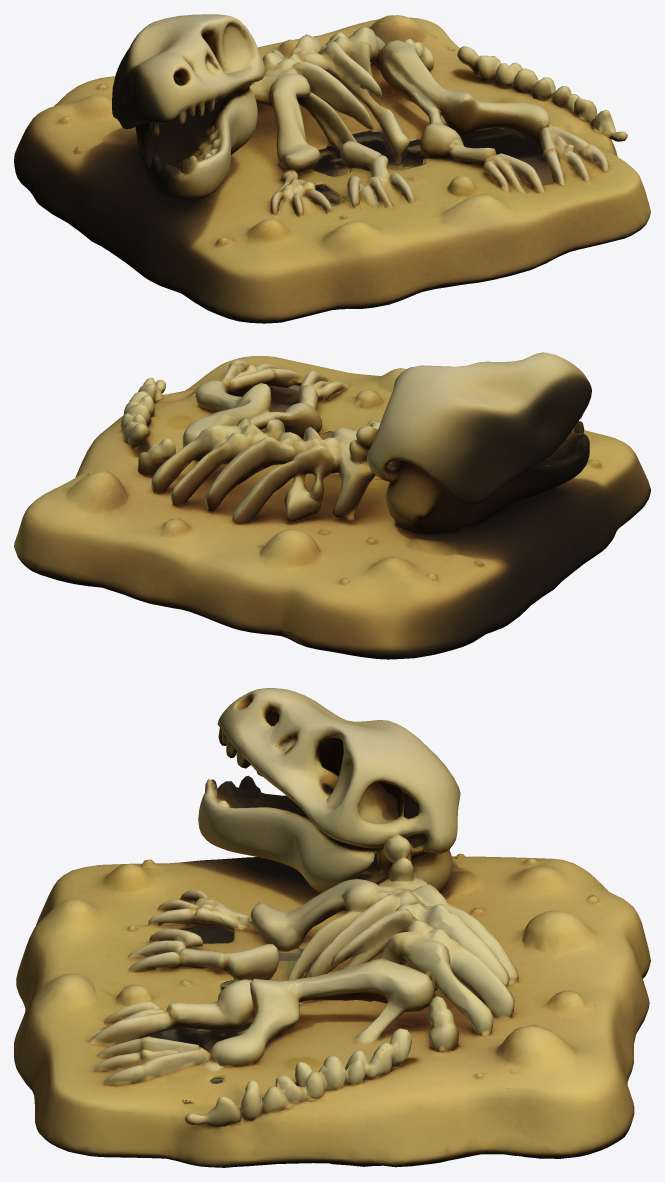
Rendered from dino-bones.glb.
3 renders of one model, top to bottom at view 1: azimuth 30°, elevation 25°; view 2: azimuth 150°, elevation 25°; view 3: azimuth 270°, elevation 25°, orthographic. The views are drawn at different scales.
Parts seen in each view (by area): view 1: geometry_0; view 2: geometry_0; view 3: geometry_0.
Boxes of the visible parts, bbox=[...] form: geometry_0: bbox=[14, 14, 650, 323]; geometry_0: bbox=[14, 352, 650, 659]; geometry_0: bbox=[14, 688, 650, 1167].
Size of the model in its own units: 0.9934 by 0.3958 by 0.9698.
1 material, 1 textured.
